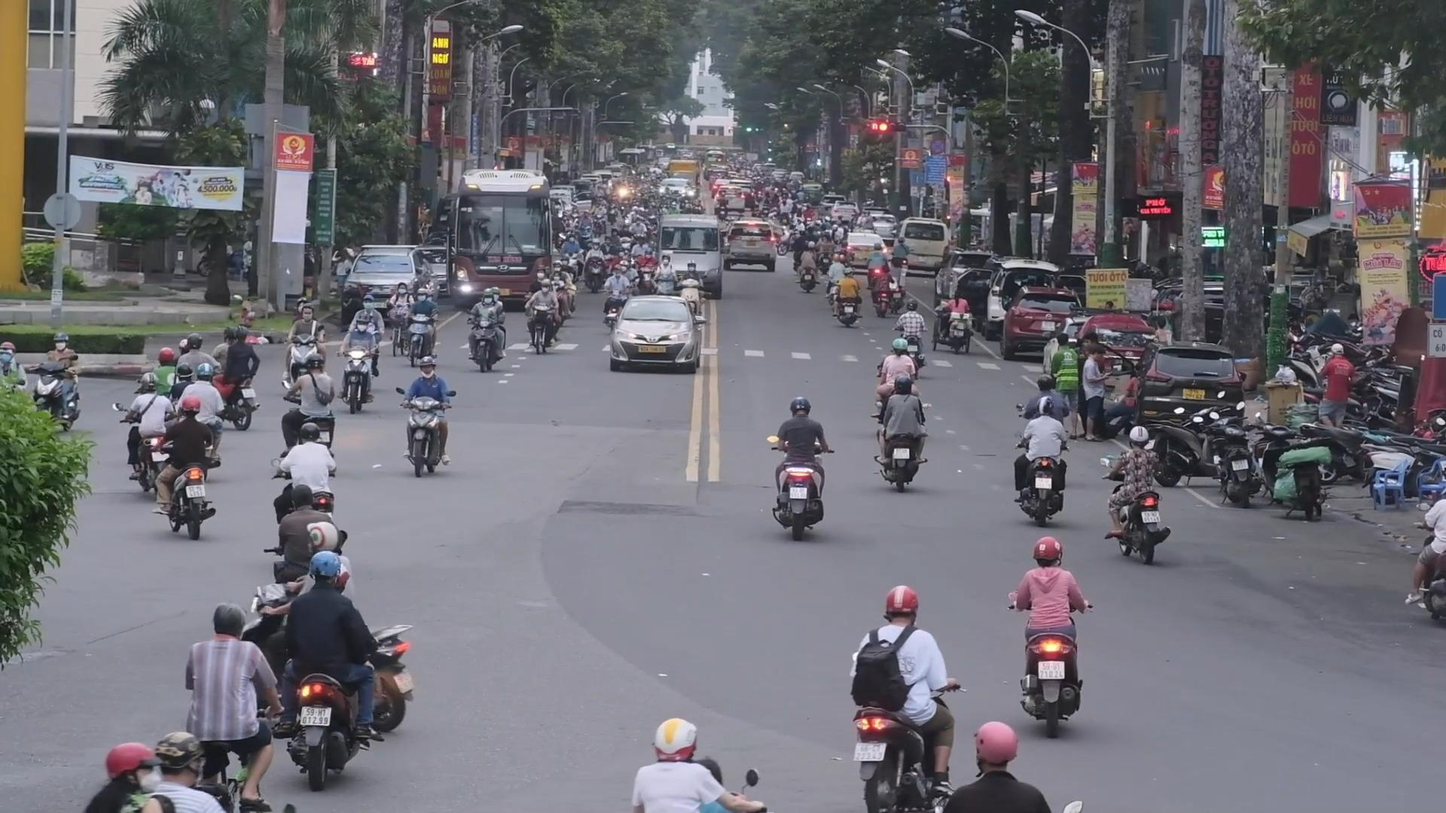bicyclist: (186, 602, 286, 813), (386, 282, 414, 357)
driver: (849, 584, 968, 813), (271, 551, 383, 791), (1007, 536, 1094, 739), (1100, 426, 1171, 565), (149, 396, 216, 540), (770, 397, 835, 541), (1009, 396, 1070, 528), (113, 371, 177, 495), (396, 356, 457, 478), (871, 375, 928, 493), (280, 353, 336, 458), (30, 331, 81, 432), (212, 326, 261, 431), (335, 312, 380, 414), (282, 297, 328, 386), (465, 287, 506, 372), (891, 298, 929, 379), (404, 288, 439, 367), (524, 279, 559, 354), (832, 267, 863, 328), (676, 259, 708, 316)
helmet: (106, 743, 167, 794), (154, 731, 204, 789), (973, 721, 1018, 778), (653, 718, 699, 762), (883, 584, 918, 625), (306, 521, 338, 554), (309, 551, 340, 585), (1032, 537, 1063, 567), (1129, 425, 1150, 449), (300, 422, 320, 444), (790, 397, 811, 417), (182, 396, 201, 418), (140, 372, 160, 392), (419, 356, 437, 378), (306, 353, 325, 373), (1037, 396, 1055, 416), (1036, 374, 1055, 392), (177, 362, 194, 382), (895, 376, 912, 395), (355, 313, 370, 334), (197, 363, 213, 381), (158, 347, 174, 365), (54, 332, 69, 351), (892, 338, 908, 355), (187, 333, 203, 349), (302, 303, 314, 322), (907, 298, 918, 311)
no-helmet: (214, 603, 248, 641), (291, 484, 314, 511), (363, 294, 374, 310)
